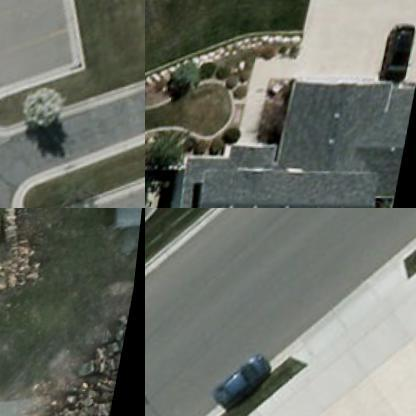car: (214, 351, 282, 416), (382, 35, 415, 95)
